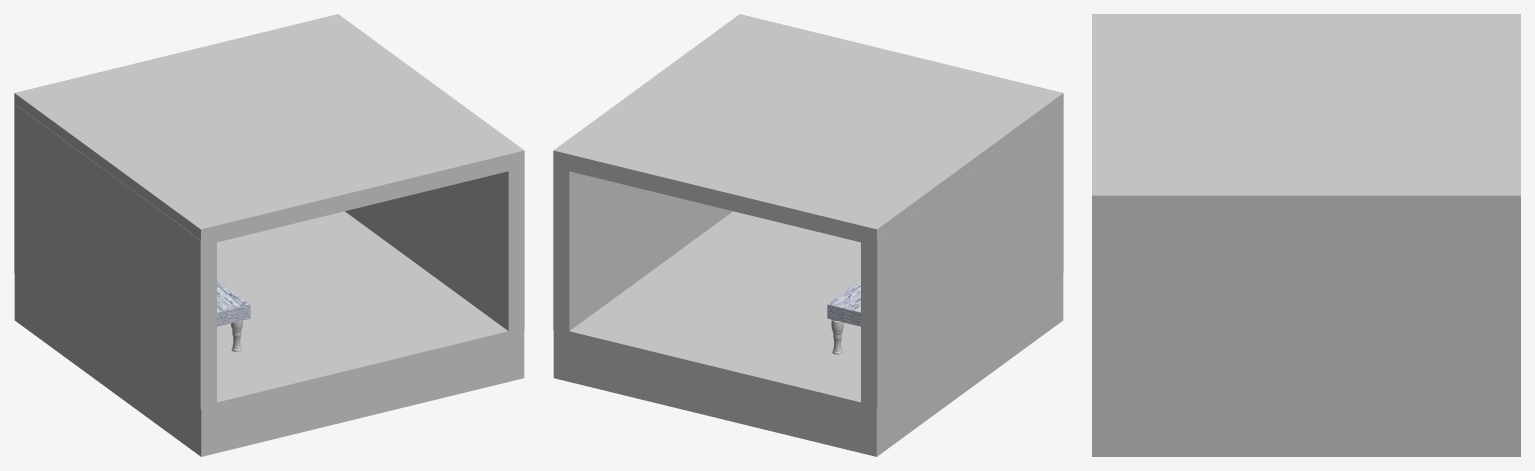
File: office2.glb
3 views of the same model, side by side, from view 1: azimuth 30°, elevation 25°; view 2: azimuth 150°, elevation 25°; view 3: azimuth 270°, elevation 25° (orthographic). The views are drawn at different scales.
Parts seen in each view (by area): view 1: Cube.004, Cube, Cube.002, Cube.001, Cube.003; view 2: Cube.004, Cube, Cube.002, Cube.001, Cube.003; view 3: Cube.001, Cube.004, Cube.
Part boxes in pixels (x1,y1,x2,y2): Cube.004: (14,14,524,245); Cube: (14,211,524,456); Cube.002: (14,104,216,409); Cube.001: (345,161,524,333); Cube.003: (217,280,250,326); Cube.004: (553,14,1063,246); Cube: (553,211,1063,456); Cube.002: (861,104,1063,409); Cube.001: (553,161,732,332); Cube.003: (827,280,860,326); Cube.001: (1092,208,1520,402); Cube.004: (1092,14,1520,207); Cube: (1092,402,1520,456).
Size of the model in its own units: 10.03 by 6.73 by 10.
Materials: 1 (1 with a texture image).
